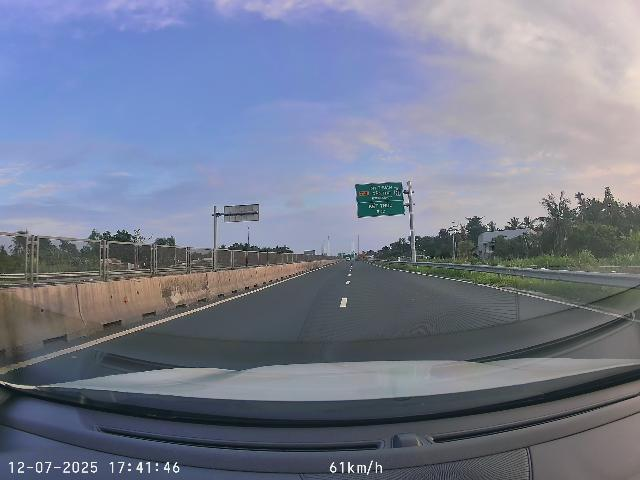438-ket-thuc-duong-cao-toc: (393, 187, 401, 196)
